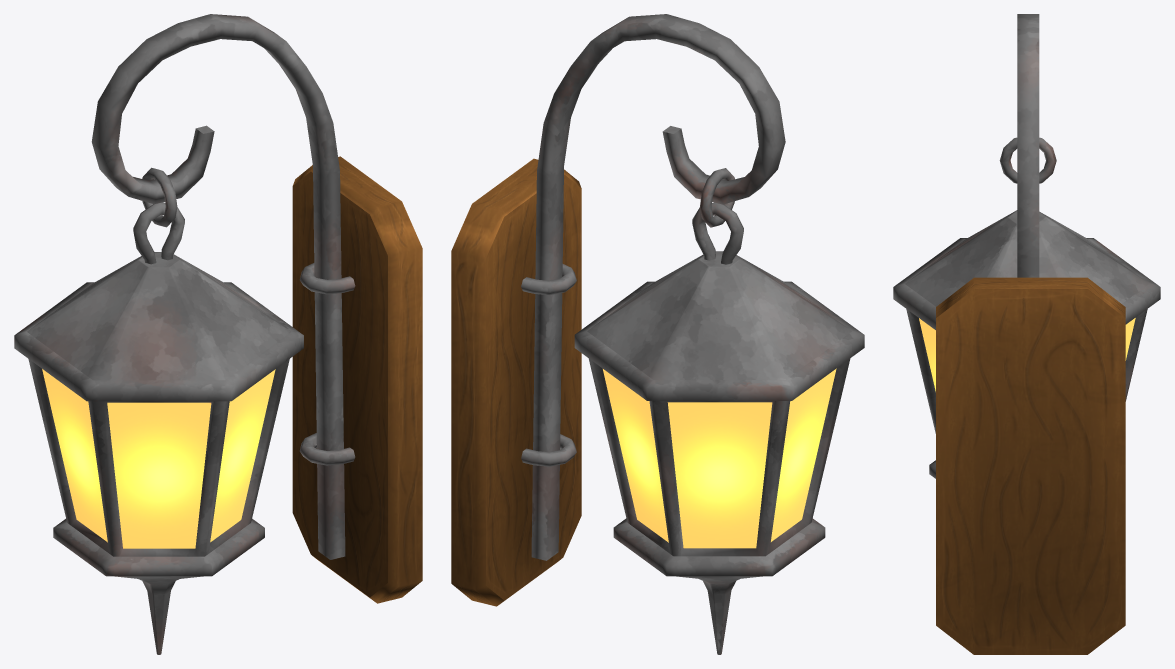
Rendered from SM_Stylized_Lamp_B.fbx.
3 renders of one model, left to right at view 1: azimuth 30°, elevation 25°; view 2: azimuth 150°, elevation 25°; view 3: azimuth 270°, elevation 25°, orthographic. The views are drawn at different scales.
Parts seen in each view (by area): view 1: SM_Stylized_Lamp_B_LOD0; view 2: SM_Stylized_Lamp_B_LOD0; view 3: SM_Stylized_Lamp_B_LOD0.
Part boxes in pixels (left/top/right/bottom): SM_Stylized_Lamp_B_LOD0: left=14, top=14, right=422, bottom=654; SM_Stylized_Lamp_B_LOD0: left=451, top=14, right=864, bottom=654; SM_Stylized_Lamp_B_LOD0: left=893, top=14, right=1160, bottom=654.
Size of the model in its own units: 45.61 by 35.42 by 83.85.
